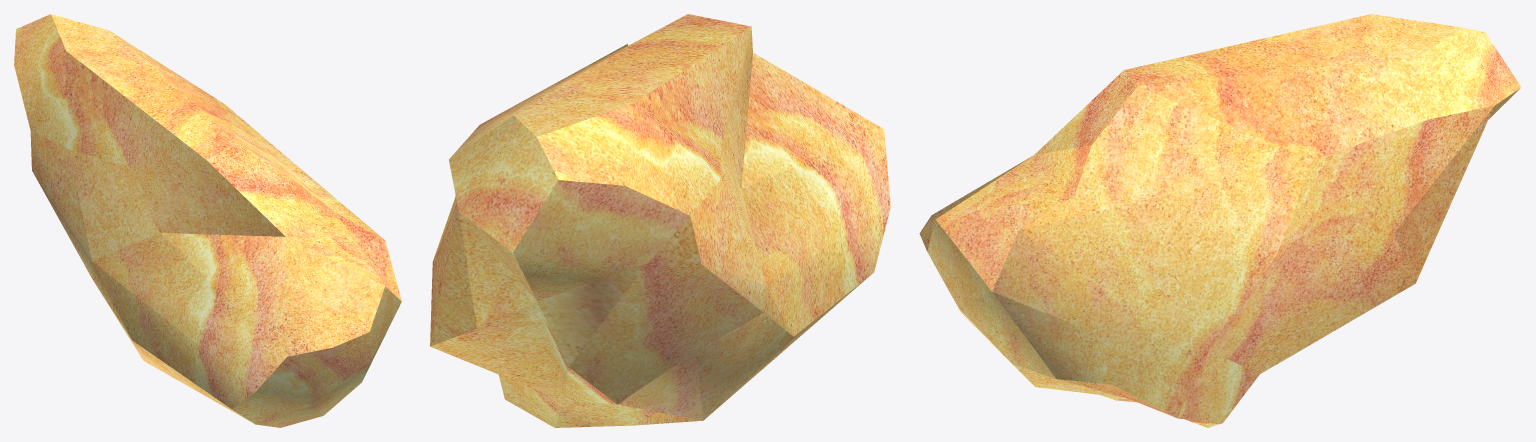
The model's file is boulder-sm-4.glb.
The picture shows the model from 3 angles, left to right: view 1: azimuth 30°, elevation 25°; view 2: azimuth 150°, elevation 25°; view 3: azimuth 270°, elevation 25°; orthographic projection. The views are drawn at different scales.
Parts seen in each view (by area): view 1: Icosahedron_n3d; view 2: Icosahedron_n3d; view 3: Icosahedron_n3d.
Boxes of the visible parts, x1,y1,x2,y2 form: Icosahedron_n3d: (14, 14, 401, 427); Icosahedron_n3d: (430, 14, 890, 427); Icosahedron_n3d: (919, 14, 1521, 427).
Bounding box in the file's own units: 0.3289 × 0.4281 × 0.6774.
1 material, 1 textured.
